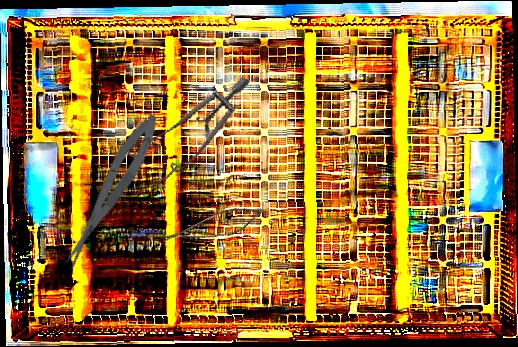Micro Scissor: (52, 108, 168, 274), (158, 190, 267, 266)
Speculum: (118, 48, 251, 203)
